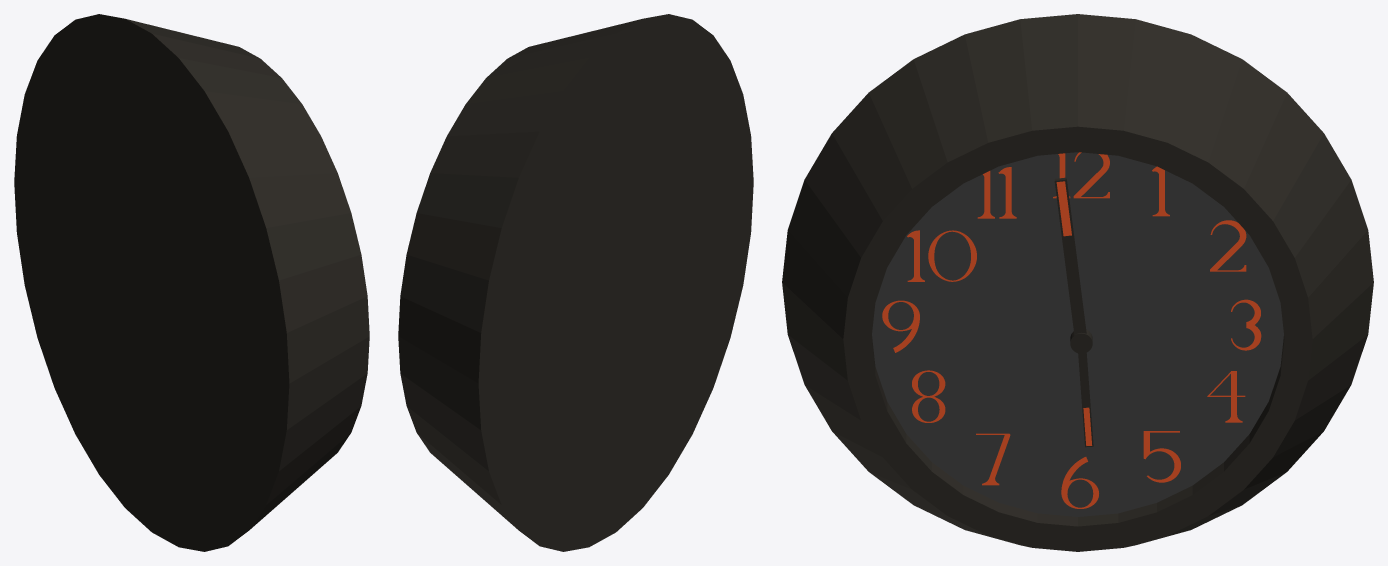
The picture shows the model from 3 angles, left to right: view 1: azimuth 30°, elevation 25°; view 2: azimuth 150°, elevation 25°; view 3: azimuth 270°, elevation 25°; orthographic projection. The views are drawn at different scales.
Visible parts, largest first — view 1: Cylinder; view 2: Cylinder; view 3: Cylinder, fundo, Cube, Text.010, Cube.001, Text.011.
Part boxes in pixels (bbox=[...]): Cylinder: bbox=[14, 14, 369, 551]; Cylinder: bbox=[398, 14, 753, 551]; Cylinder: bbox=[782, 14, 1373, 551]; fundo: bbox=[872, 152, 1283, 516]; Cube: bbox=[1054, 177, 1086, 334]; Text.010: bbox=[907, 230, 976, 281]; Cube.001: bbox=[1078, 353, 1093, 447]; Text.011: bbox=[977, 167, 1016, 218].
Size of the model in its own units: 23.7 by 104 by 104.
